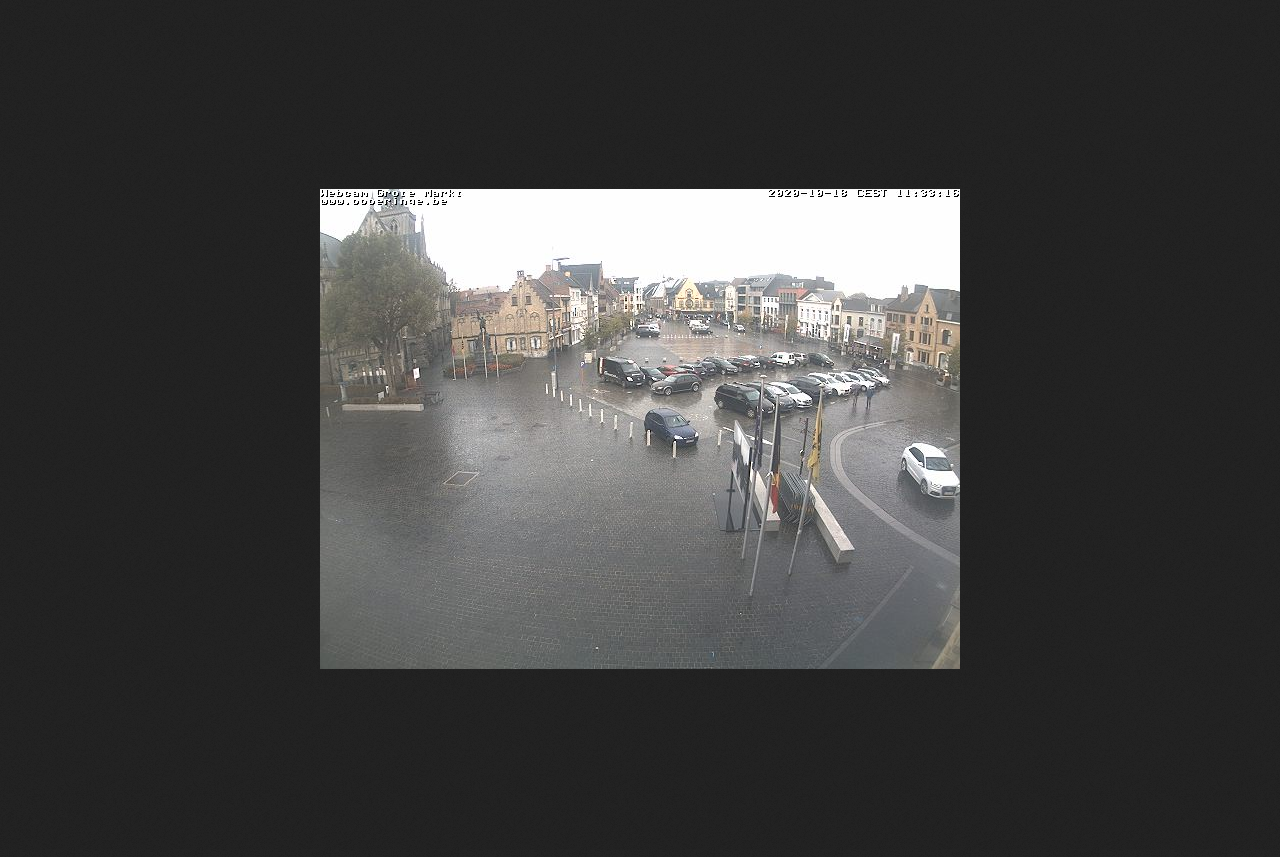no: (801, 395, 825, 487), (763, 409, 783, 516), (745, 391, 765, 476)
